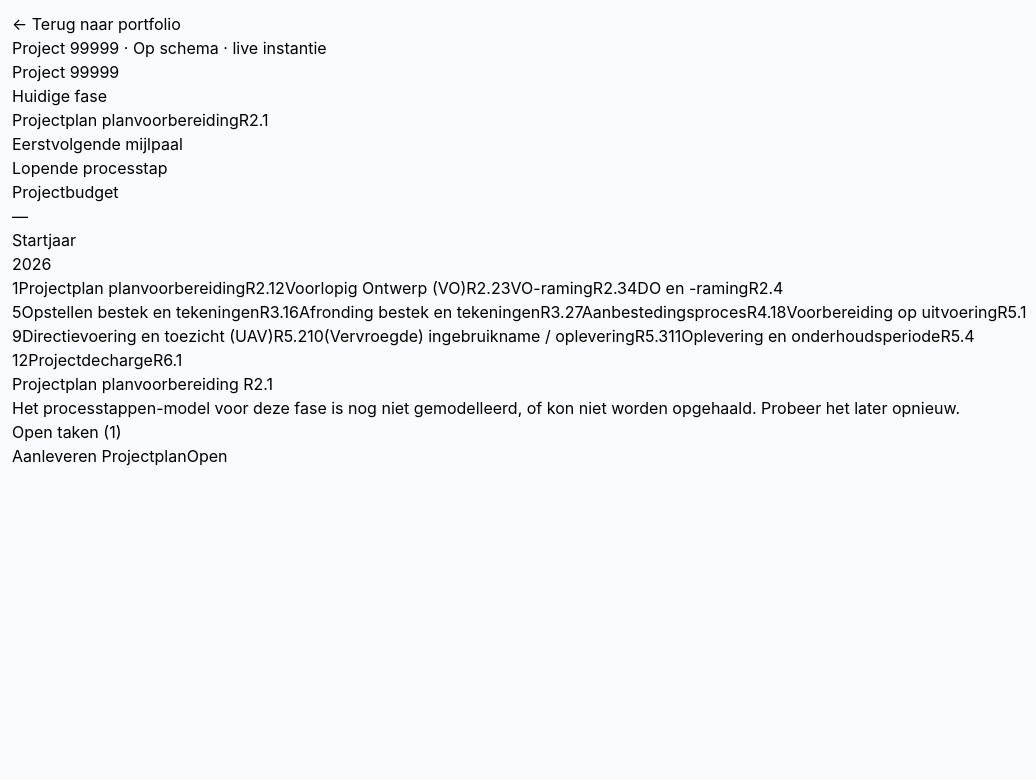
Test case: ProjectDetail — live instance with open tasks › shows neither form nor panel while the signing spec is still loading
Click the text "Aanleveren Projectplan": (99, 456) [12, 446, 187, 466]
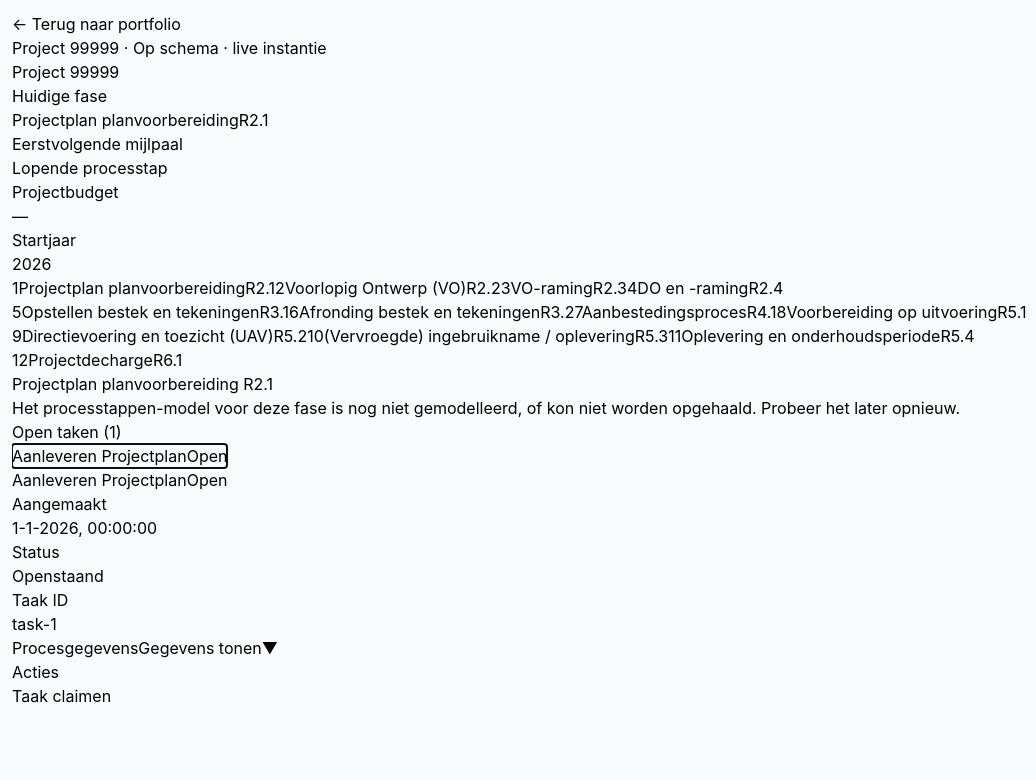
Click the button "Taak claimen": (62, 696) [12, 684, 111, 708]
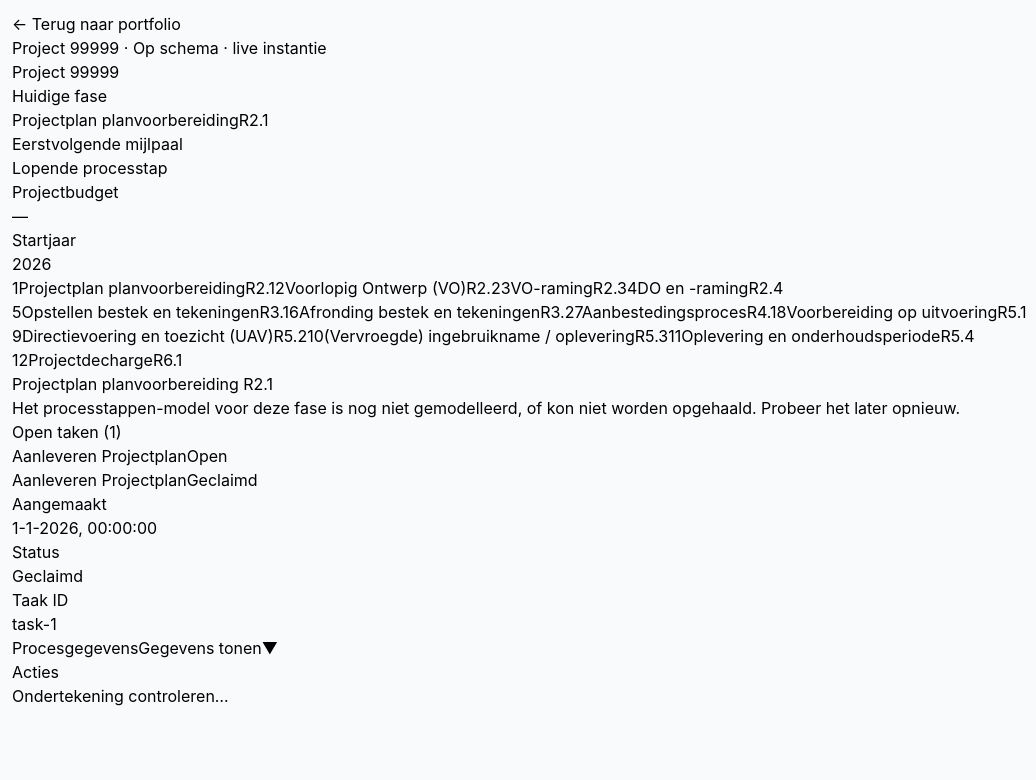
expect the text "Ondertekening controleren…" is shown: met, box [12, 686, 229, 706]
